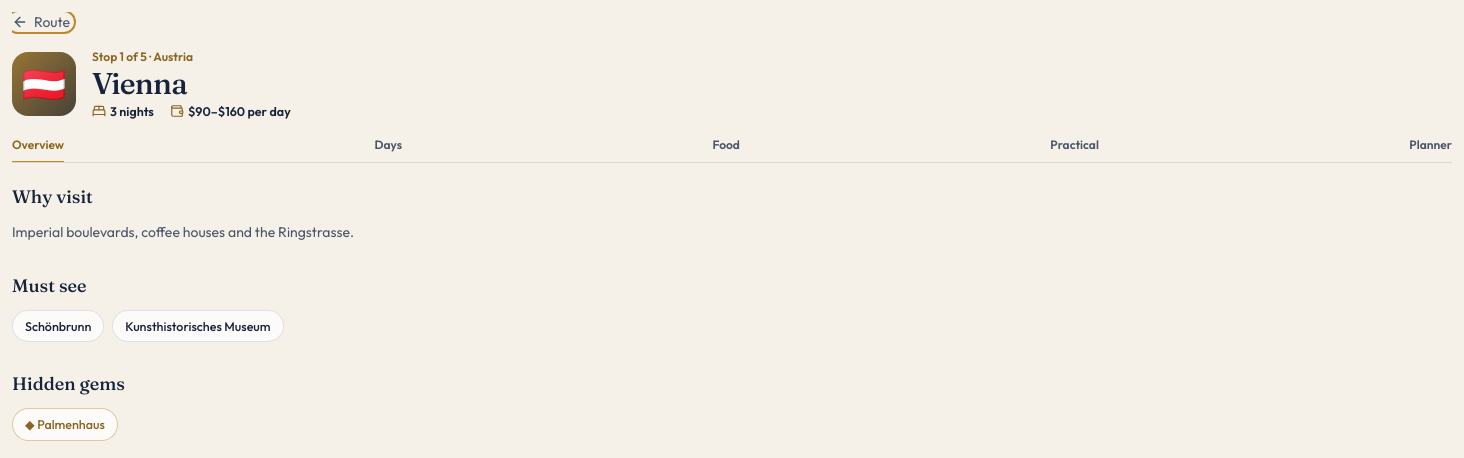
Test case: CityDetail › switches to the itinerary tab
Click the tab "Days" at (388, 150), box x1=374 y1=137 x2=402 y2=163
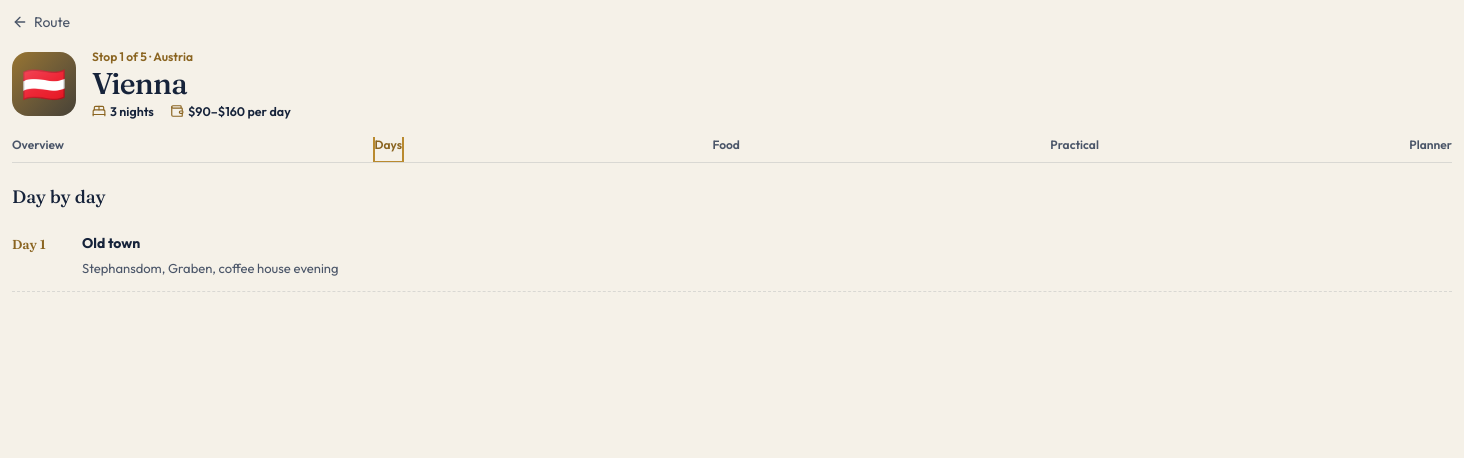
Check: the text "Old town" is shown, box x1=82 y1=234 x2=140 y2=252
Check: the text "Stephansdom, Graben, coffee house evening" is shown, box x1=82 y1=260 x2=338 y2=276
